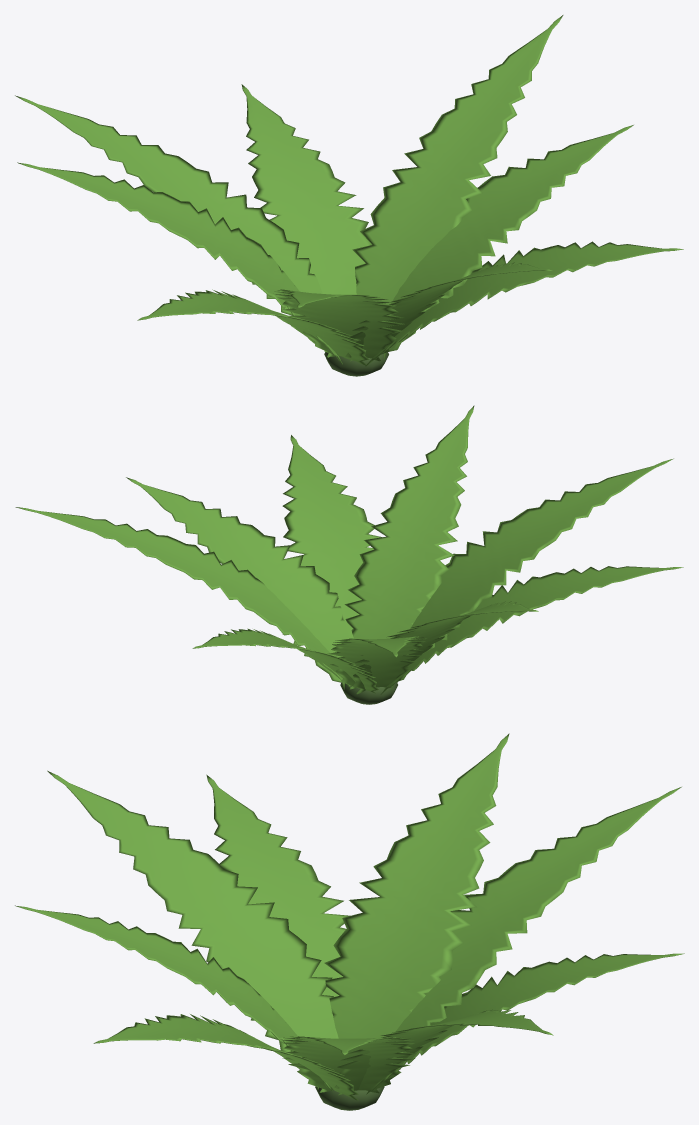
Rendered from sh_fern.fbx.
3 views of the same model, one above another, from view 1: azimuth 30°, elevation 25°; view 2: azimuth 150°, elevation 25°; view 3: azimuth 270°, elevation 25° (orthographic). The views are drawn at different scales.
Visible parts, largest first — view 1: SH_Fern; view 2: SH_Fern; view 3: SH_Fern.
Part boxes in pixels (<box>): SH_Fern: <box>15,15,683,376</box>; SH_Fern: <box>15,405,683,704</box>; SH_Fern: <box>15,733,684,1110</box>.
Bounding box in the file's own units: 52.3 × 18.61 × 48.27.
